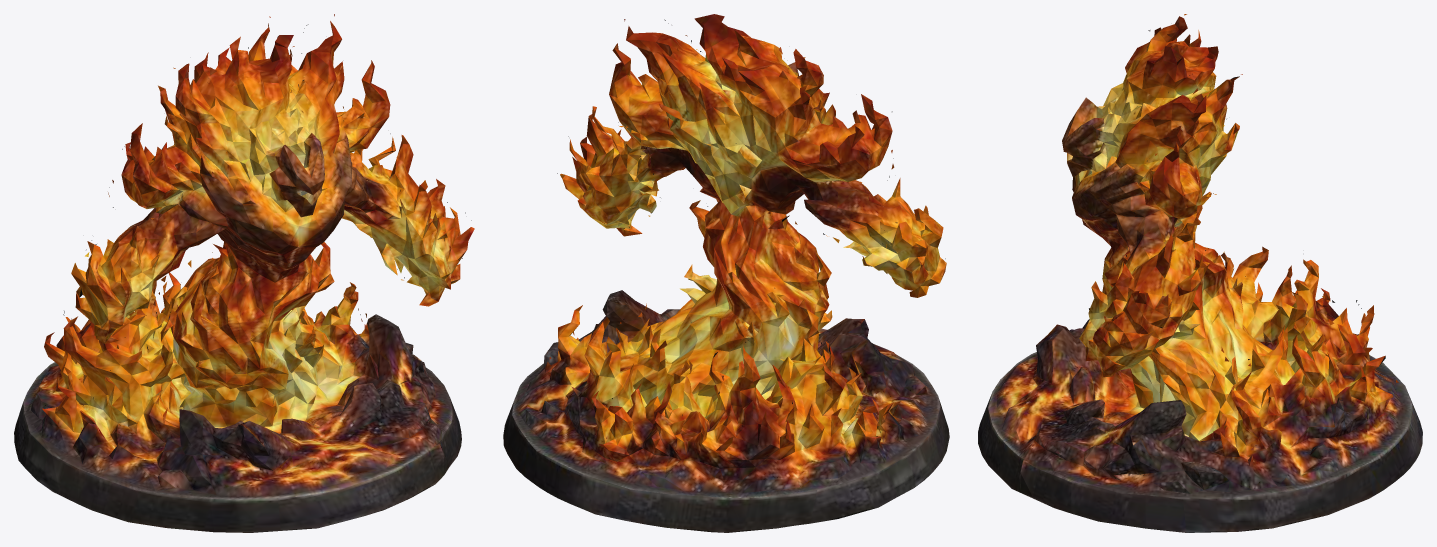
The model's file is elemental_fire_lod0.glb.
3 views of the same model, side by side, from view 1: azimuth 30°, elevation 25°; view 2: azimuth 150°, elevation 25°; view 3: azimuth 270°, elevation 25° (orthographic).
Visible parts, largest first — view 1: elemental_fire_lod0; view 2: elemental_fire_lod0; view 3: elemental_fire_lod0.
Boxes of the visible parts, left/top/right/bottom form: elemental_fire_lod0: left=14, top=14, right=474, bottom=532; elemental_fire_lod0: left=503, top=14, right=949, bottom=532; elemental_fire_lod0: left=978, top=14, right=1422, bottom=532.
Size of the model in its own units: 2.18 by 2.19 by 2.18.
1 material, 1 textured.
